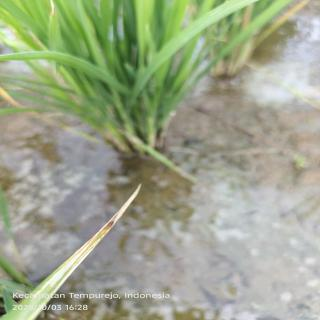bercak-Cokelat: (92, 183, 142, 243)
